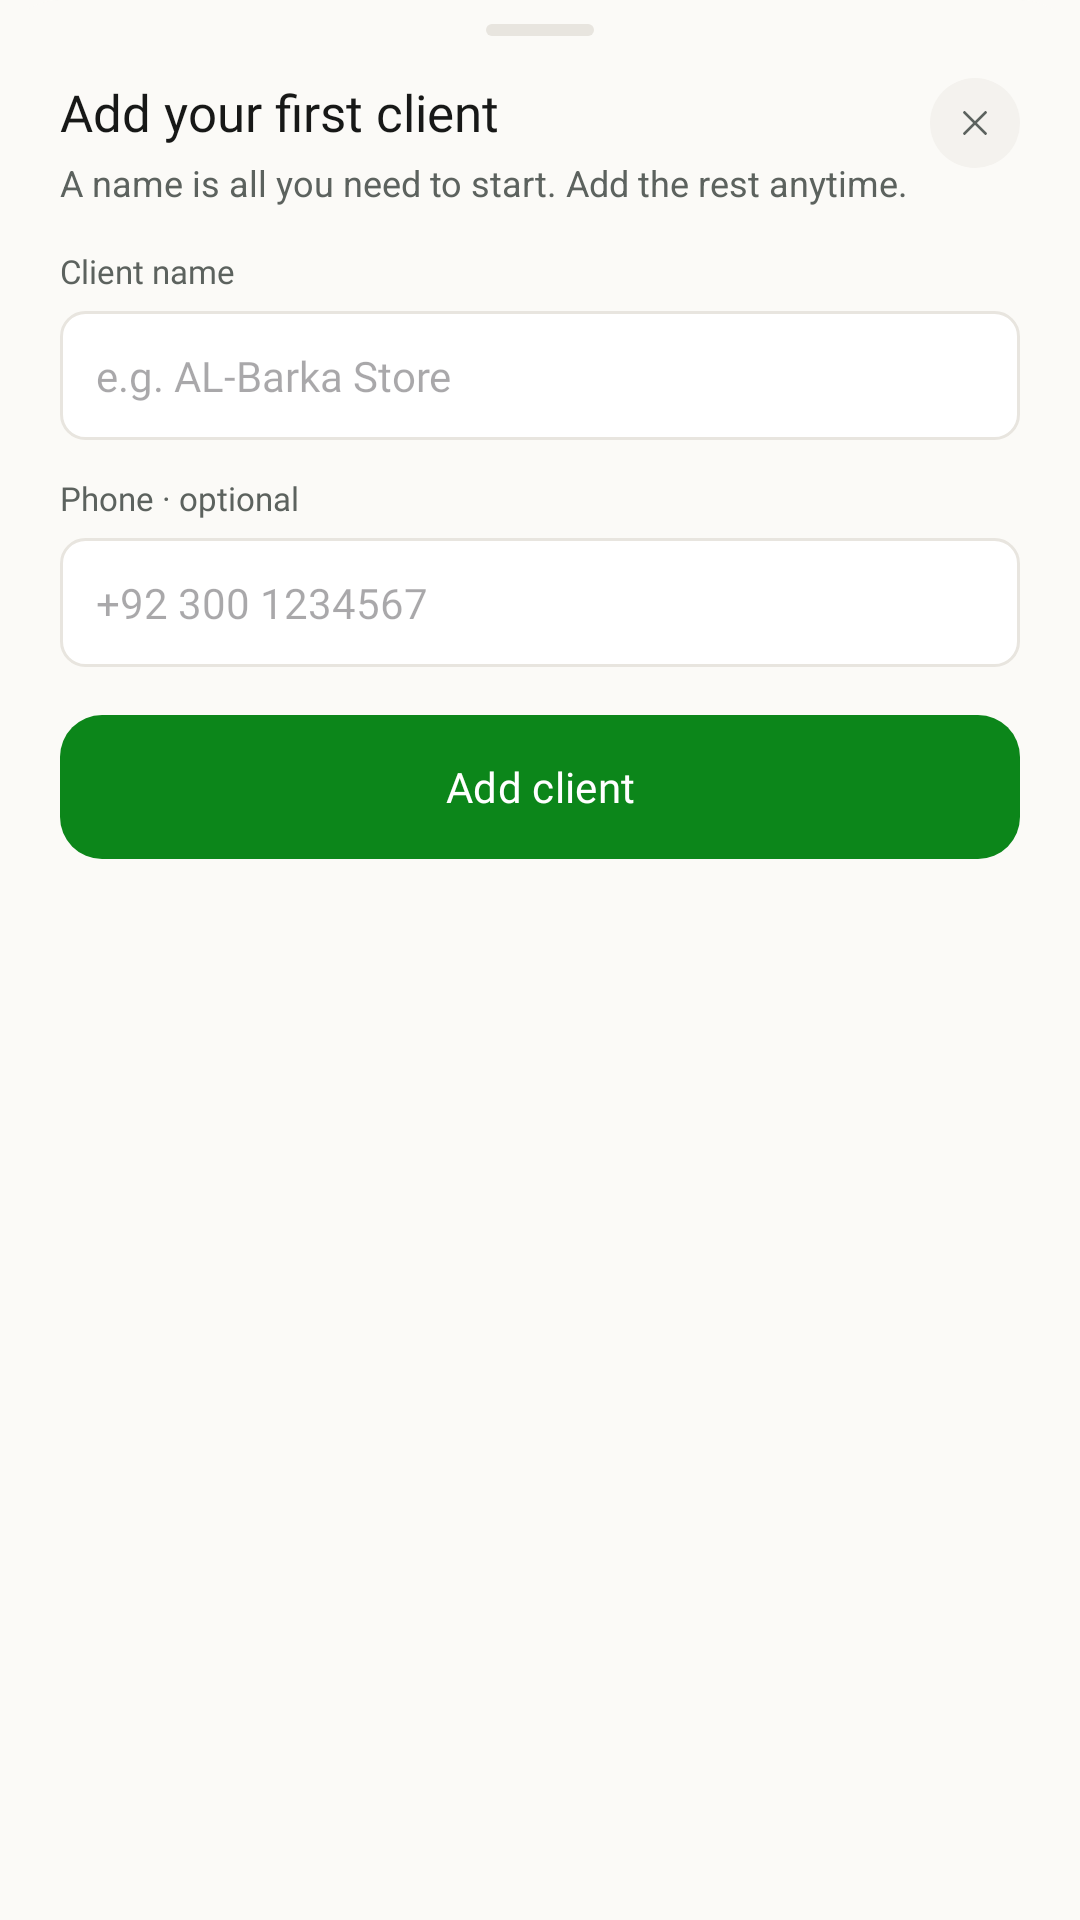

Point at icon controls on the screen. Image size 1080px×1920px, points as (x,y).
Close: (975,123)
